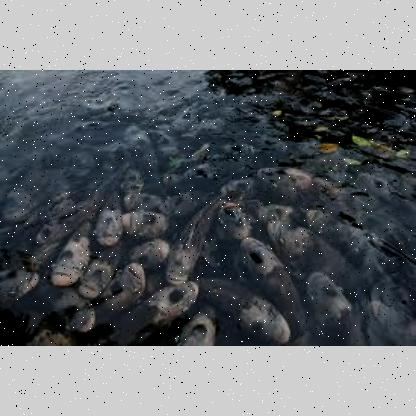gurame: (200, 278, 290, 342), (164, 192, 221, 284), (75, 241, 127, 295), (141, 278, 198, 324), (51, 225, 91, 283), (105, 260, 143, 306), (128, 236, 174, 274), (94, 190, 122, 248)
